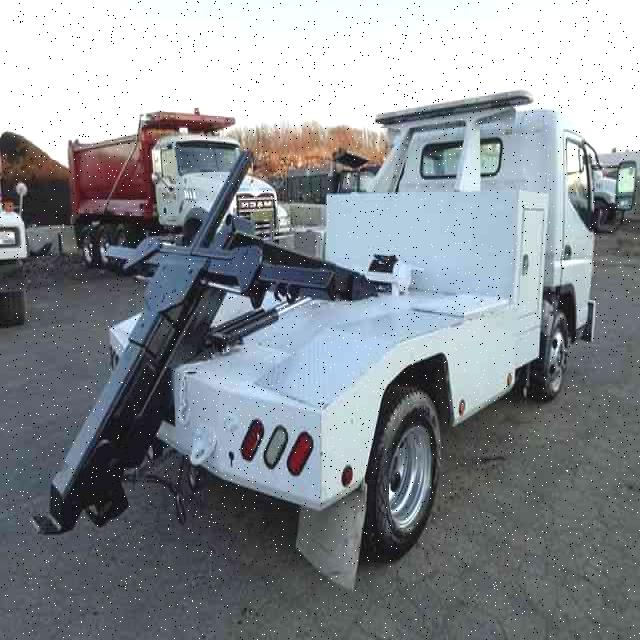truck: (32, 88, 636, 572), (67, 103, 291, 284)
